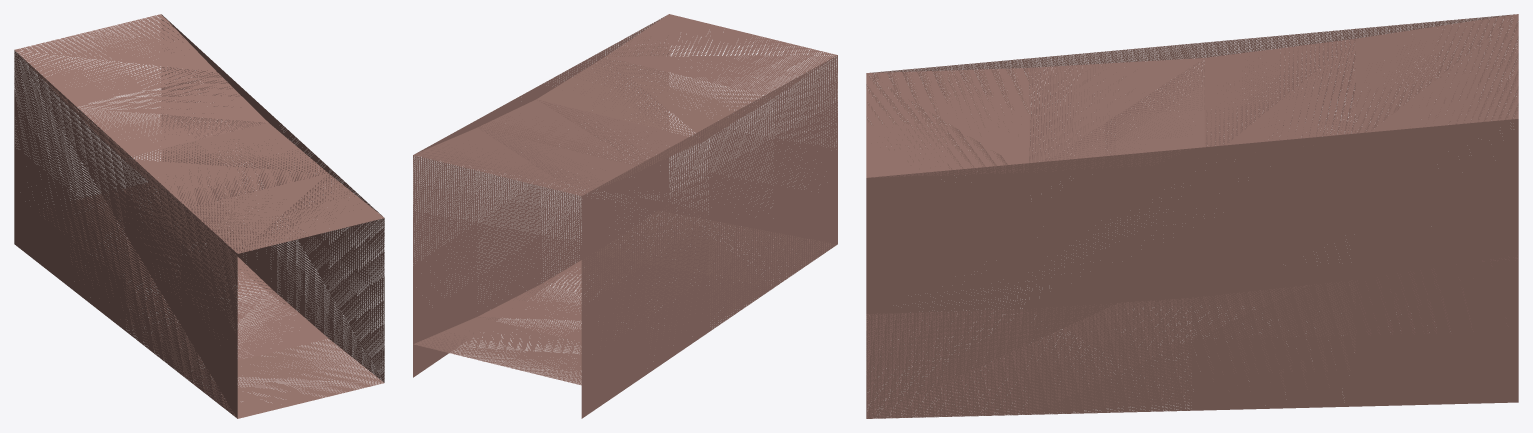
The model's file is SW_ENV_RailTunnel_Riser_A_Single_10m_FF_Collision.fbx.
The picture shows the model from 3 angles, left to right: view 1: azimuth 30°, elevation 25°; view 2: azimuth 150°, elevation 25°; view 3: azimuth 270°, elevation 25°; orthographic projection. The views are drawn at different scales.
Visible parts, largest first — view 1: SW_ENV_RailTunnel_Riser_A_Single_10m_FF_Collision; view 2: SW_ENV_RailTunnel_Riser_A_Single_10m_FF_Collision; view 3: SW_ENV_RailTunnel_Riser_A_Single_10m_FF_Collision.
Part boxes in pixels (bbox=[...]): SW_ENV_RailTunnel_Riser_A_Single_10m_FF_Collision: bbox=[14, 14, 384, 418]; SW_ENV_RailTunnel_Riser_A_Single_10m_FF_Collision: bbox=[413, 14, 837, 418]; SW_ENV_RailTunnel_Riser_A_Single_10m_FF_Collision: bbox=[866, 14, 1518, 418].
Size of the model in its own units: 3.8 by 5.08 by 10.
